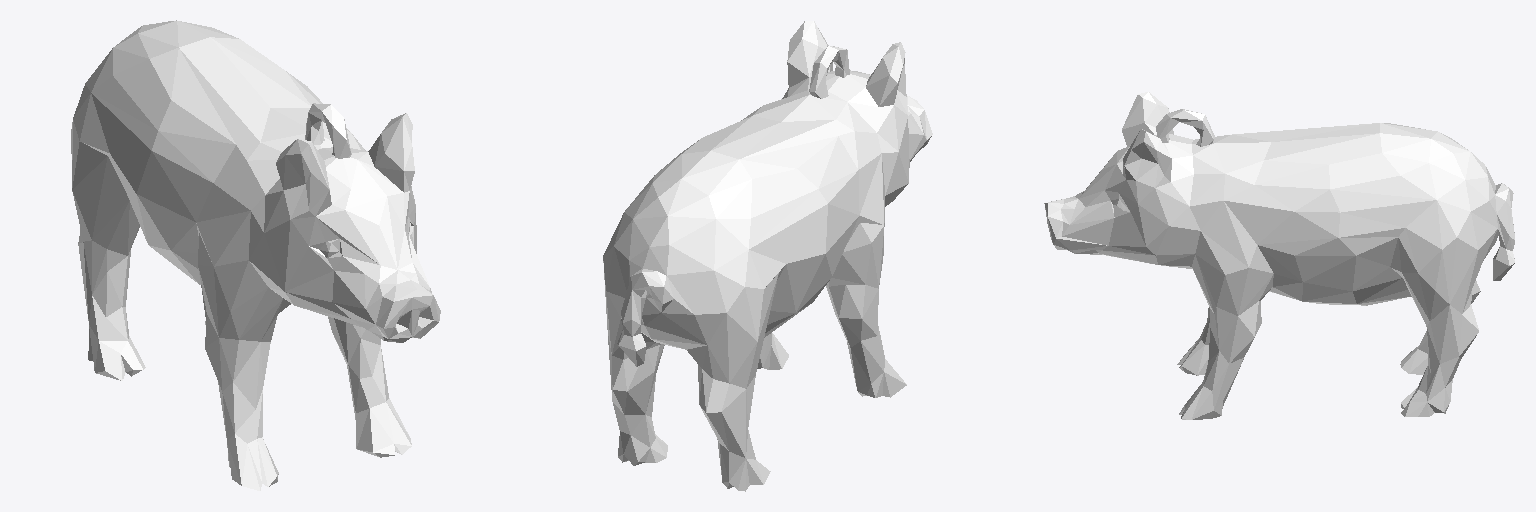
robot.urdf — simple_pig6.obj:
<robot name="simple_pig6.obj">
	<link name="_name">
		<visual>
			<origin xyz="0 0 0" rpy="0 0 0" />
			<geometry>
				<mesh filename="simple_pig6.obj" scale="1.0 1.0 1.0" />
			</geometry>
			<material name="texture">
				<color rgba="1.0 1.0 1.0 1.0" />
			</material>
		</visual>
		<collision>
			<geometry>
				<mesh filename="simple_pig6_vhacd.obj" scale="1.0 1.0 1.0" />
			</geometry>
		</collision>
		<inertial>
			<mass value="1.0" />
			<inertia ixx="1.0" ixy="0.0" ixz="0.0" iyy="1.0" iyz="0.0" izz="1.0" />
		</inertial>
	</link>
</robot>

--- Facts derived from the render (not from the file) ---
3 views of the same robot in one strip: view 1: azimuth 30°, elevation 25°; view 2: azimuth 150°, elevation 25°; view 3: azimuth 270°, elevation 25° (orthographic).
Robot: simple_pig6.obj — 1 links, 0 joints (none); root link _name; default pose: every joint at zero.
Links seen in each view (by area): view 1: _name; view 2: _name; view 3: _name.
Boxes of the visible links, x1,y1,x2,y2 form: _name: (71, 20, 440, 490); _name: (603, 21, 932, 491); _name: (1044, 92, 1514, 419).
Size in the robot's own frame: 2.44 by 6.95 by 4.61 metres.
Meshes: 1 distinct files referenced, 1 mesh visuals loaded (1 OBJ).